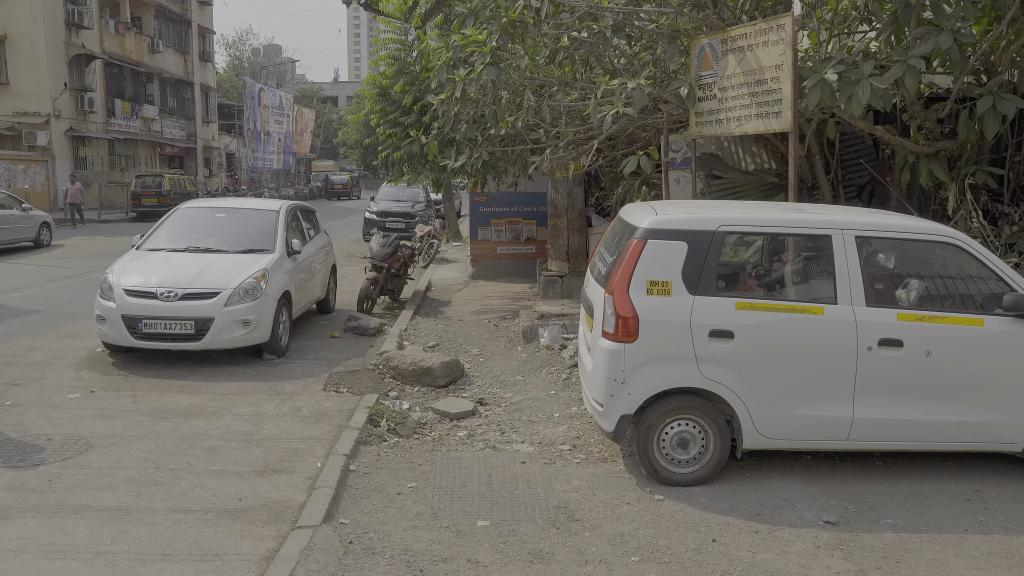garbage: (538, 327, 567, 349)
